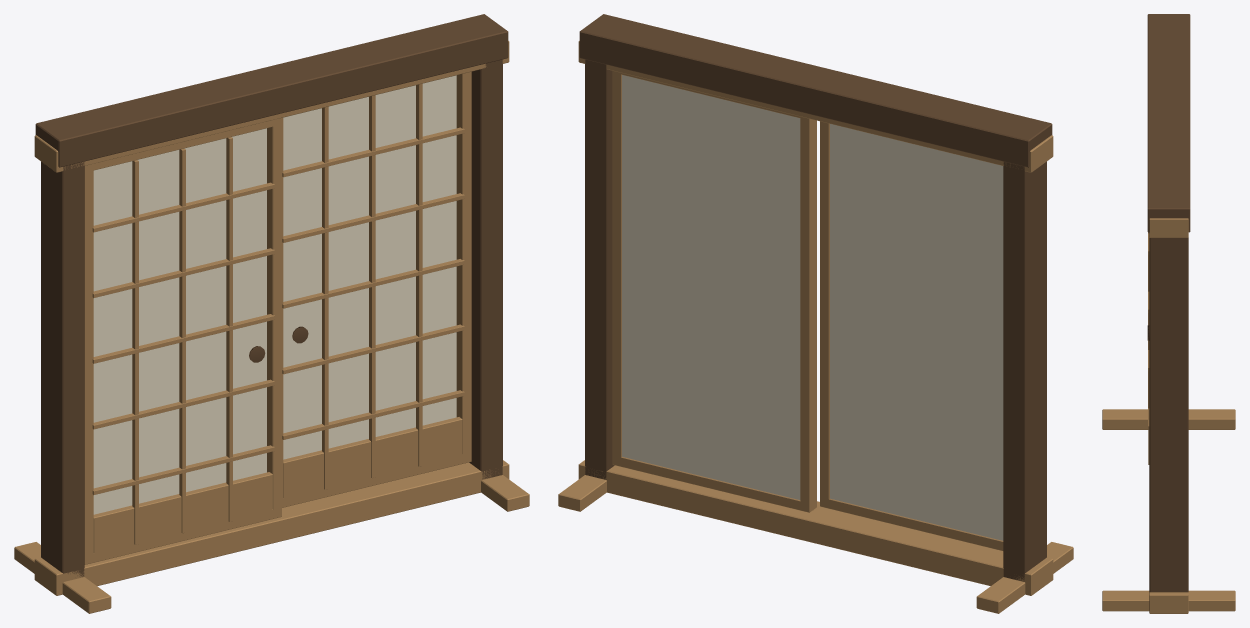
Rendered from S005_sliding_shoji_rebuilt.glb.
3 views of the same model, side by side, from view 1: azimuth 30°, elevation 25°; view 2: azimuth 150°, elevation 25°; view 3: azimuth 270°, elevation 25° (orthographic). The views are drawn at different scales.
Visible parts, largest first — view 1: Shoji_warm_rice_paper, Scenic_framing_warm_bare_timber, Dark_stained_structural_timber; view 2: Shoji_warm_rice_paper, Dark_stained_structural_timber, Scenic_framing_warm_bare_timber; view 3: Dark_stained_structural_timber, Scenic_framing_warm_bare_timber.
Part boxes in pixels (box(x1,y1,x2,y2)): Shoji_warm_rice_paper: box(93, 75, 456, 514); Scenic_framing_warm_bare_timber: box(14, 41, 529, 613); Dark_stained_structural_timber: box(35, 14, 508, 576); Shoji_warm_rice_paper: box(622, 75, 1003, 540); Dark_stained_structural_timber: box(579, 14, 1052, 581); Scenic_framing_warm_bare_timber: box(558, 41, 1073, 613); Dark_stained_structural_timber: box(1147, 14, 1190, 592); Scenic_framing_warm_bare_timber: box(1102, 218, 1235, 613).
Size of the model in its own units: 2.6 by 2.5 by 0.745.
